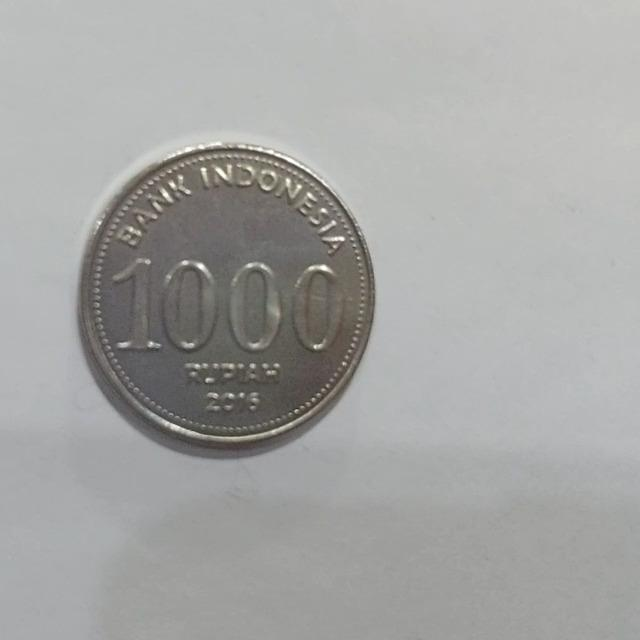Rp100: (75, 138, 377, 454)
